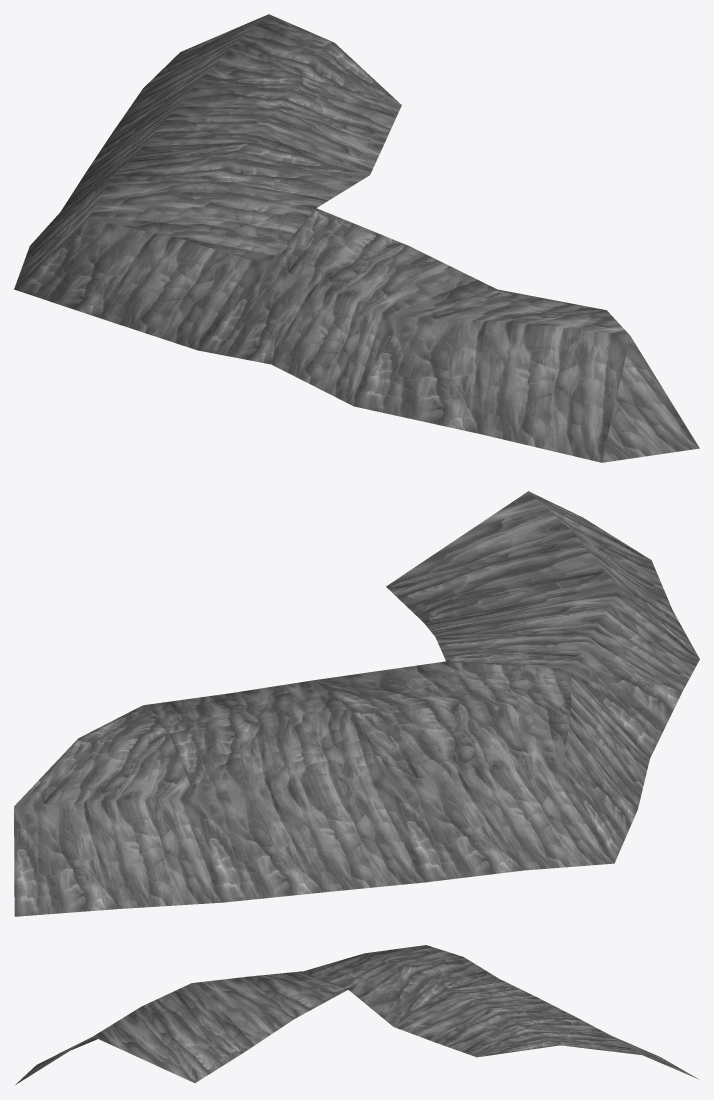
File: SWORDLIGHT20_PS-AREA04_15.fbx
3 renders of one model, top to bottom at view 1: azimuth 30°, elevation 25°; view 2: azimuth 150°, elevation 25°; view 3: azimuth 270°, elevation 25°, orthographic. The views are drawn at different scales.
Visible parts, largest first — view 1: SWORDLIGHT20_PS-AREA04_15; view 2: SWORDLIGHT20_PS-AREA04_15; view 3: SWORDLIGHT20_PS-AREA04_15.
Boxes of the visible parts, x1,y1,x2,y2 form: SWORDLIGHT20_PS-AREA04_15: (14,14,699,462); SWORDLIGHT20_PS-AREA04_15: (14,491,699,916); SWORDLIGHT20_PS-AREA04_15: (15,945,699,1084).
Size of the model in its own units: 105191 by 24587 by 231135.
1 material, 1 textured.
